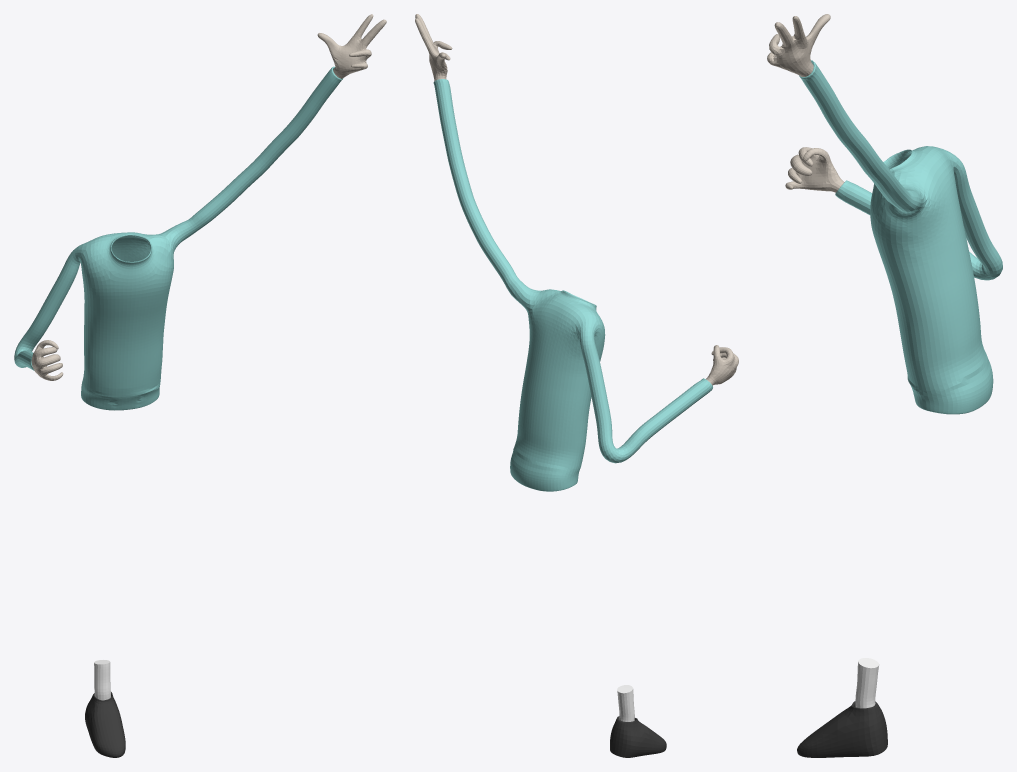
File: triko.OBJ
The picture shows the model from 3 angles, left to right: view 1: azimuth 30°, elevation 25°; view 2: azimuth 150°, elevation 25°; view 3: azimuth 270°, elevation 25°; orthographic projection. The views are drawn at different scales.
Parts seen in each view (by area): view 1: ZBrushPolyMesh3D; view 2: ZBrushPolyMesh3D; view 3: ZBrushPolyMesh3D.
Boxes of the visible parts, <box> form: ZBrushPolyMesh3D: <box>14,14,386,757</box>; ZBrushPolyMesh3D: <box>415,14,738,757</box>; ZBrushPolyMesh3D: <box>767,14,1002,757</box>.
Size of the model in its own units: 2 by 3.84 by 0.9113.
